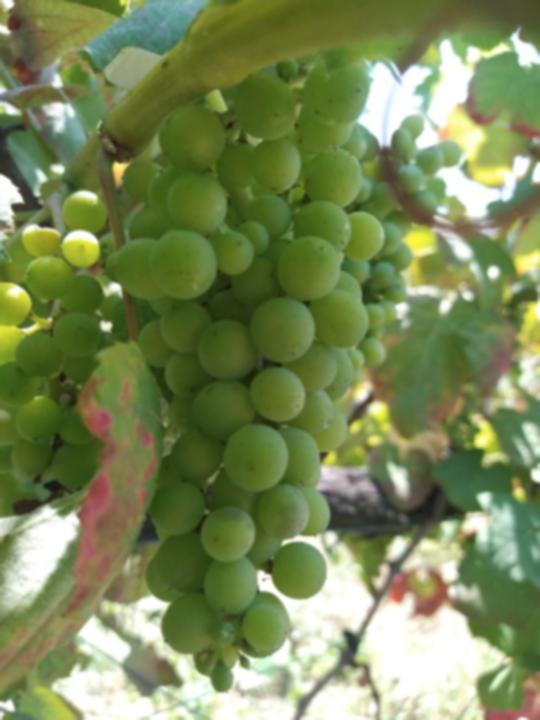grape: (104, 53, 385, 693)
